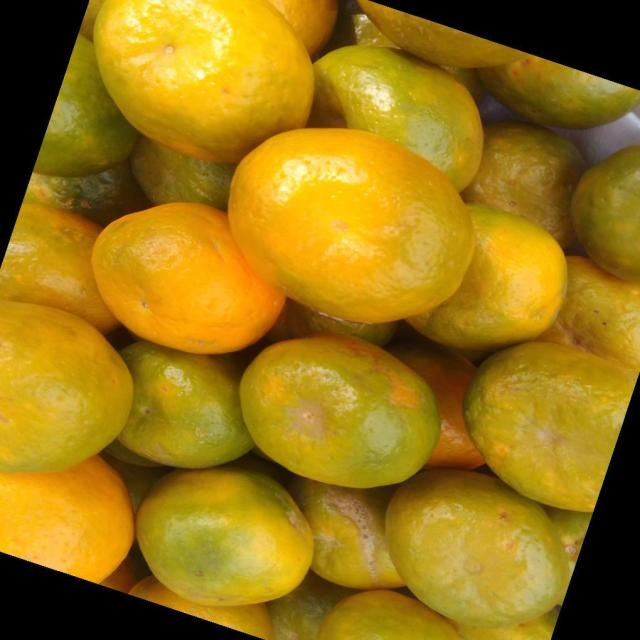agrume: (1, 0, 638, 638), (227, 126, 476, 324), (369, 442, 593, 631), (217, 334, 453, 500), (444, 317, 640, 515), (92, 0, 315, 163), (90, 200, 285, 355), (313, 44, 485, 187), (135, 467, 311, 605), (404, 207, 567, 350), (2, 303, 134, 473), (109, 341, 253, 467), (2, 203, 124, 336), (4, 456, 133, 581), (35, 33, 139, 178), (464, 126, 585, 250), (353, 0, 535, 68), (477, 57, 639, 128), (572, 143, 639, 282), (131, 136, 241, 212)
